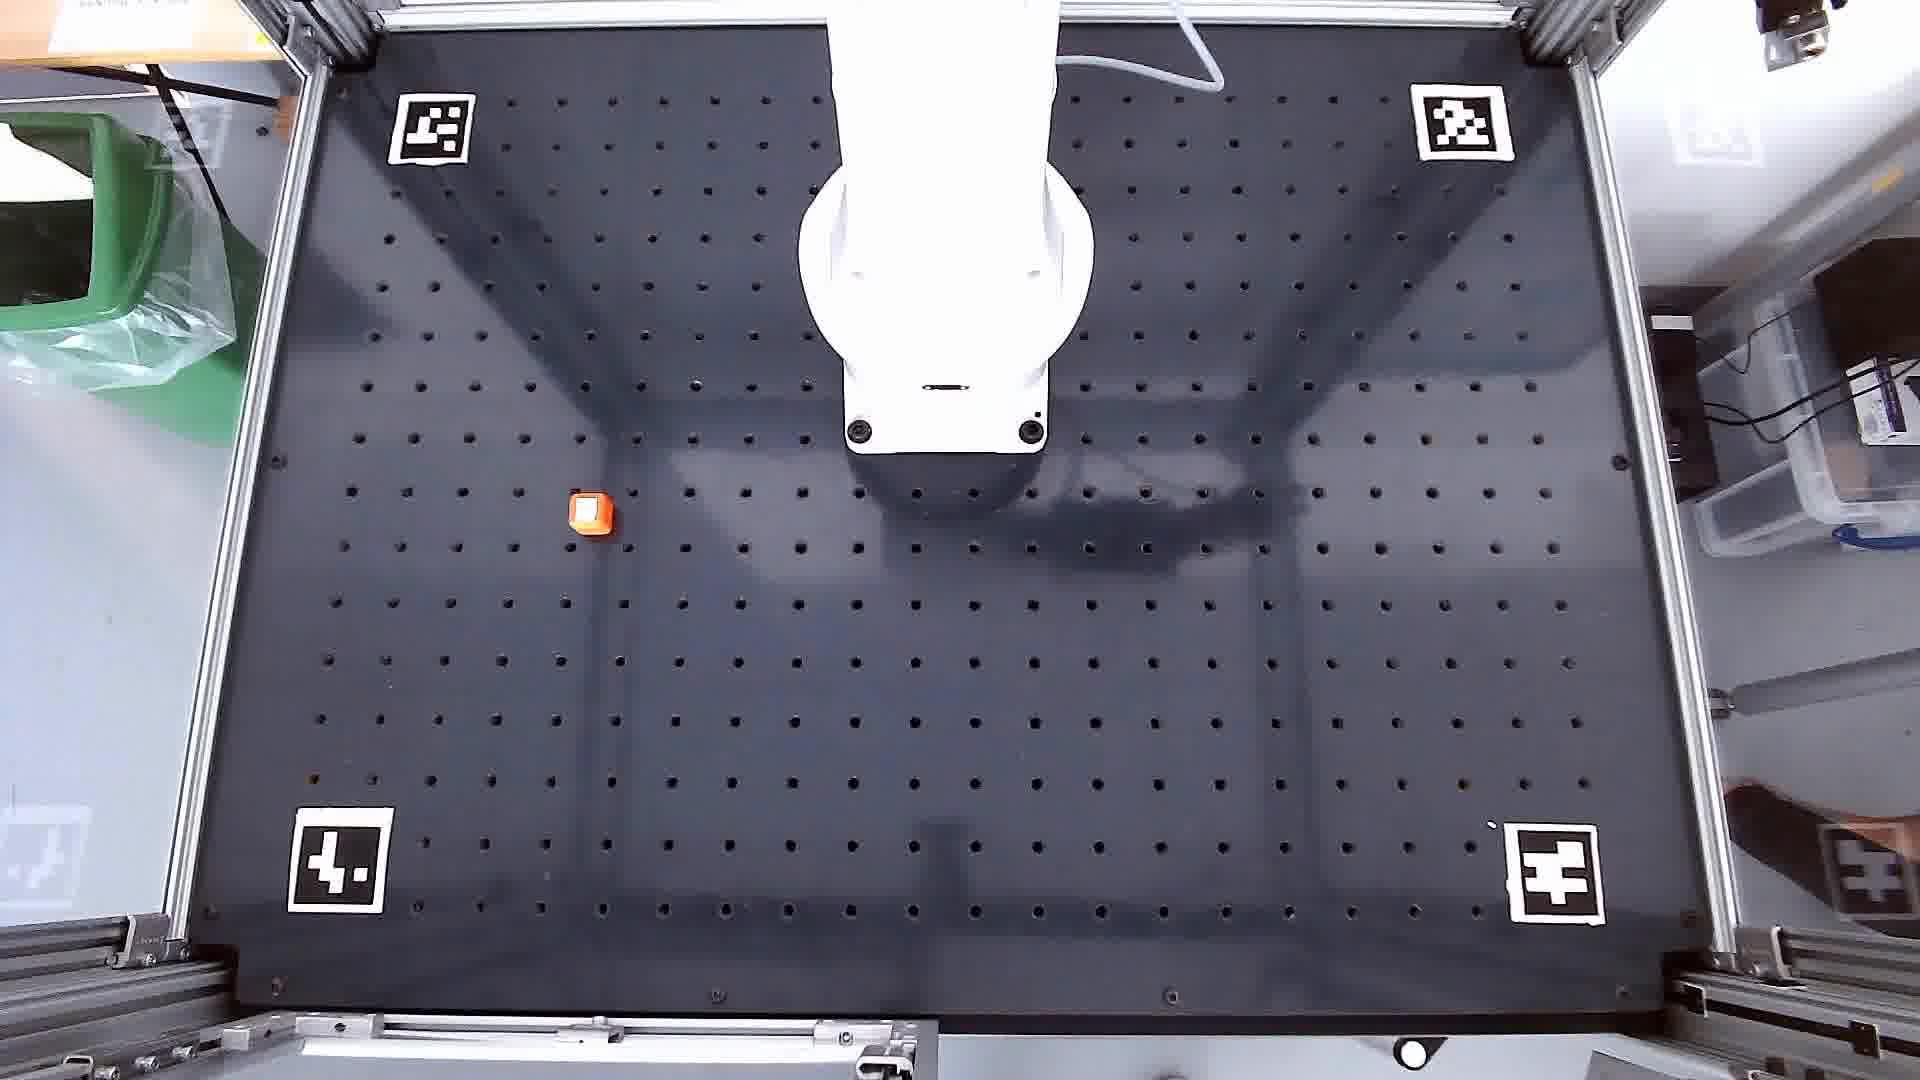sticker: (560, 488, 622, 535)
white: (568, 496, 601, 526)
